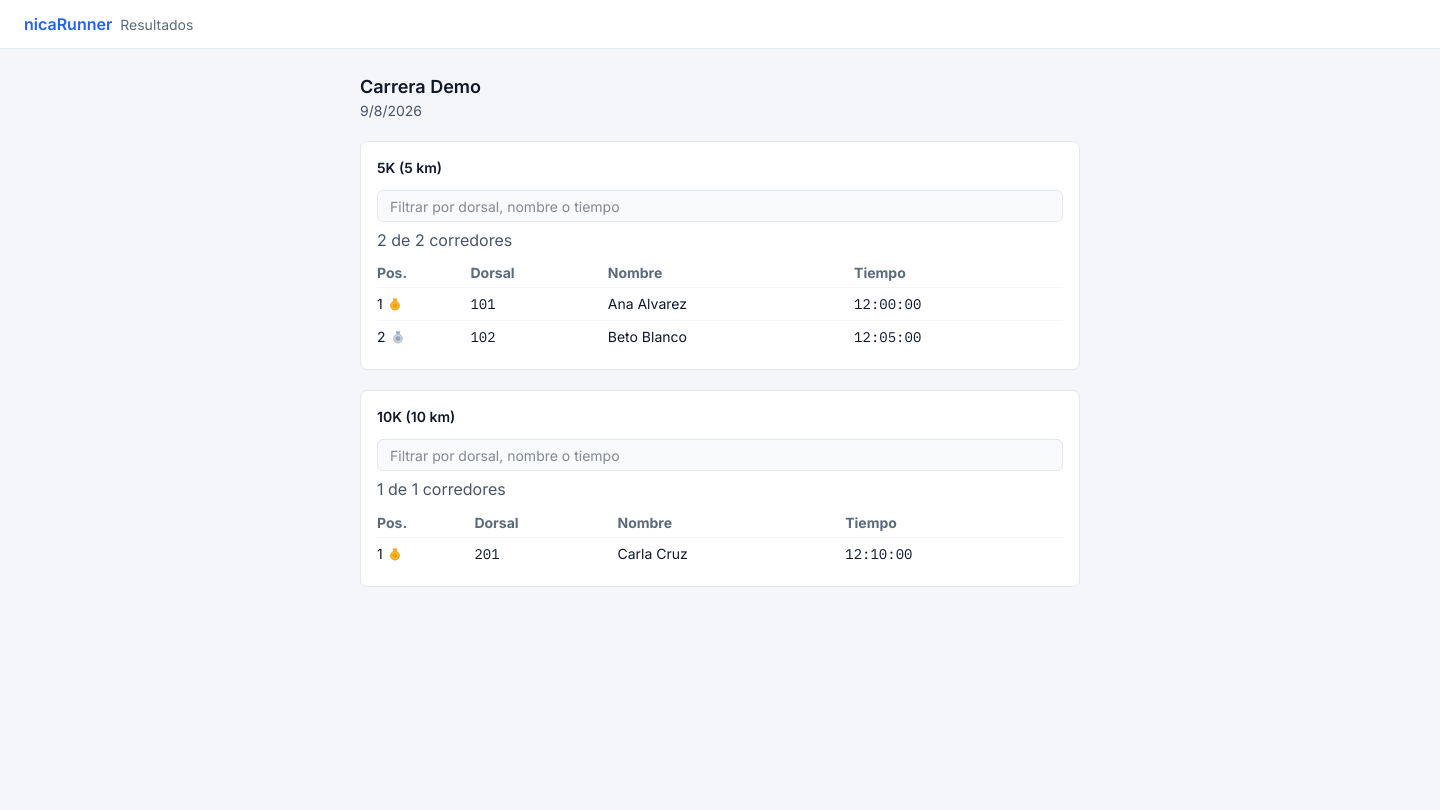
Test: PublicResultsPage per-category filter › filtering one category leaves the other category table/count untouched
The width and height of the screenshot is (1440, 810).
Expected: the text "Ana Alvarez" is shown, left=608, top=288, right=854, bottom=321
Type "Ana" into the field named "Filtrar corredores" at (720, 206), box left=377, top=190, right=1063, bottom=222
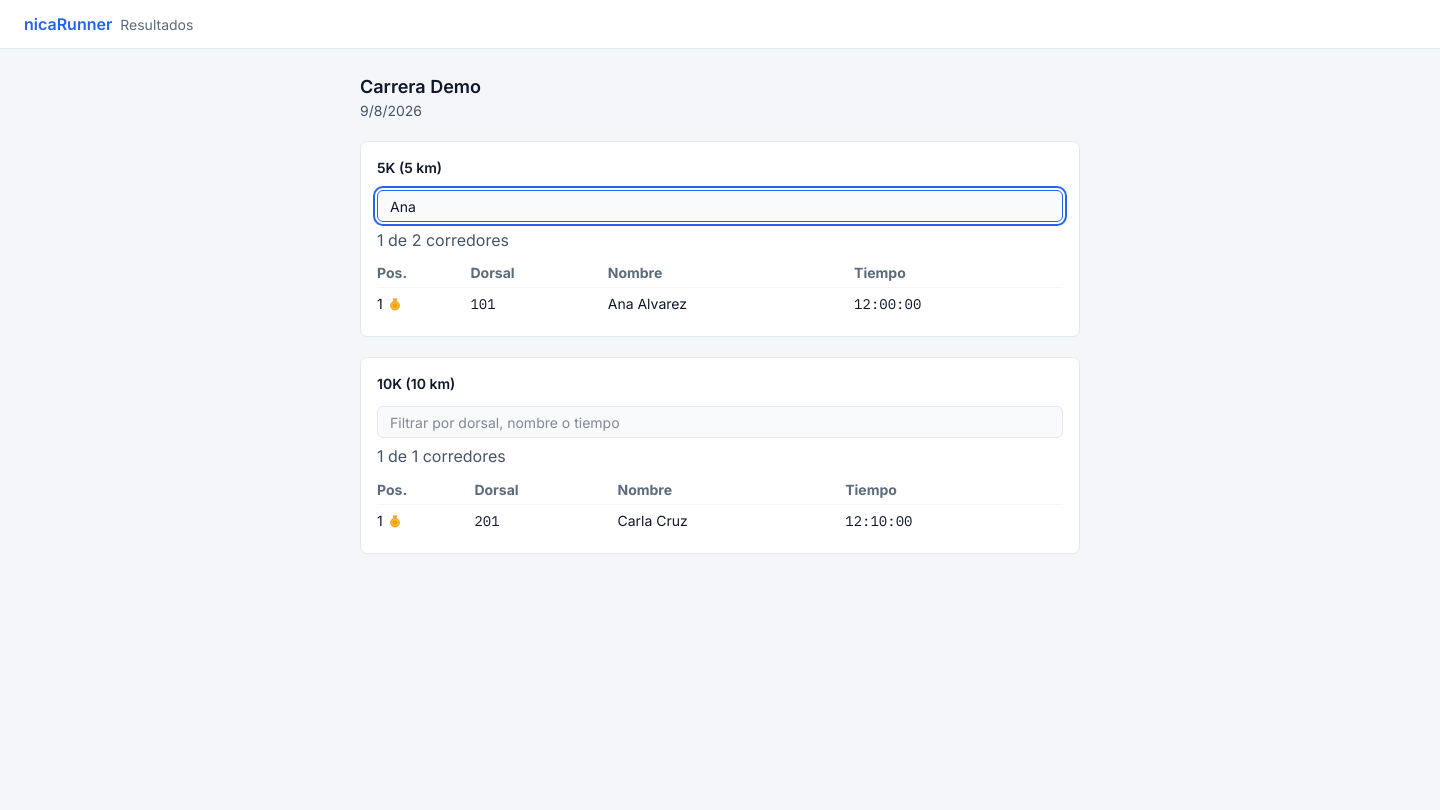
Expected: the text "Ana Alvarez" is shown, left=608, top=288, right=854, bottom=320
Expected: the button "Beto Blanco" is gone
Expected: the text "1 de 2 corredores" is shown, left=377, top=230, right=509, bottom=250
